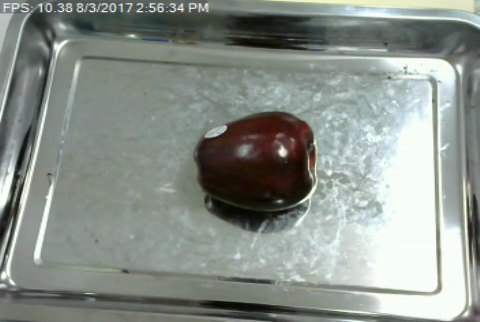Apple: (193, 107, 320, 219)
